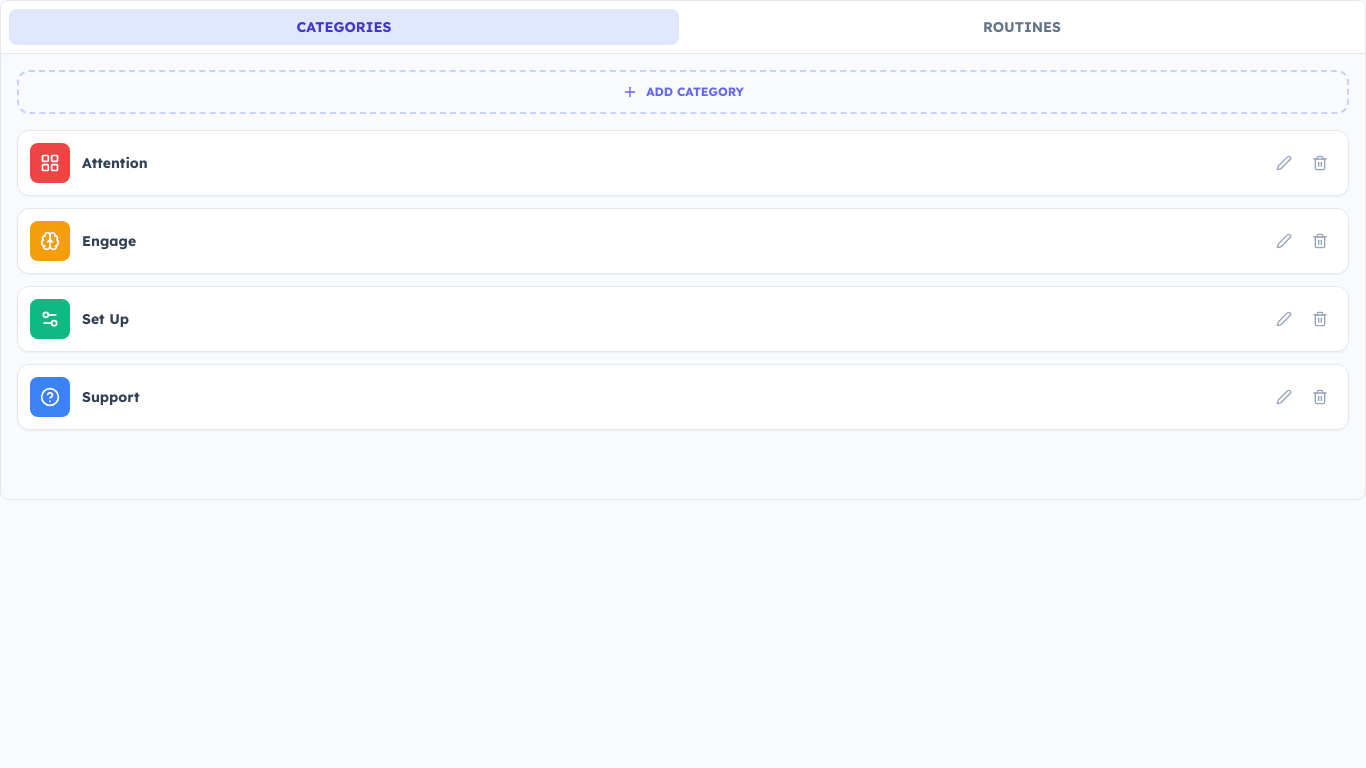
it: CatalystPermissionEditor › renders default categories and routines
Check: the text "Attention" is shown, box [82, 154, 148, 172]
Switch to routines tab
Click the button "Routines" at (1022, 27), box [687, 9, 1357, 45]
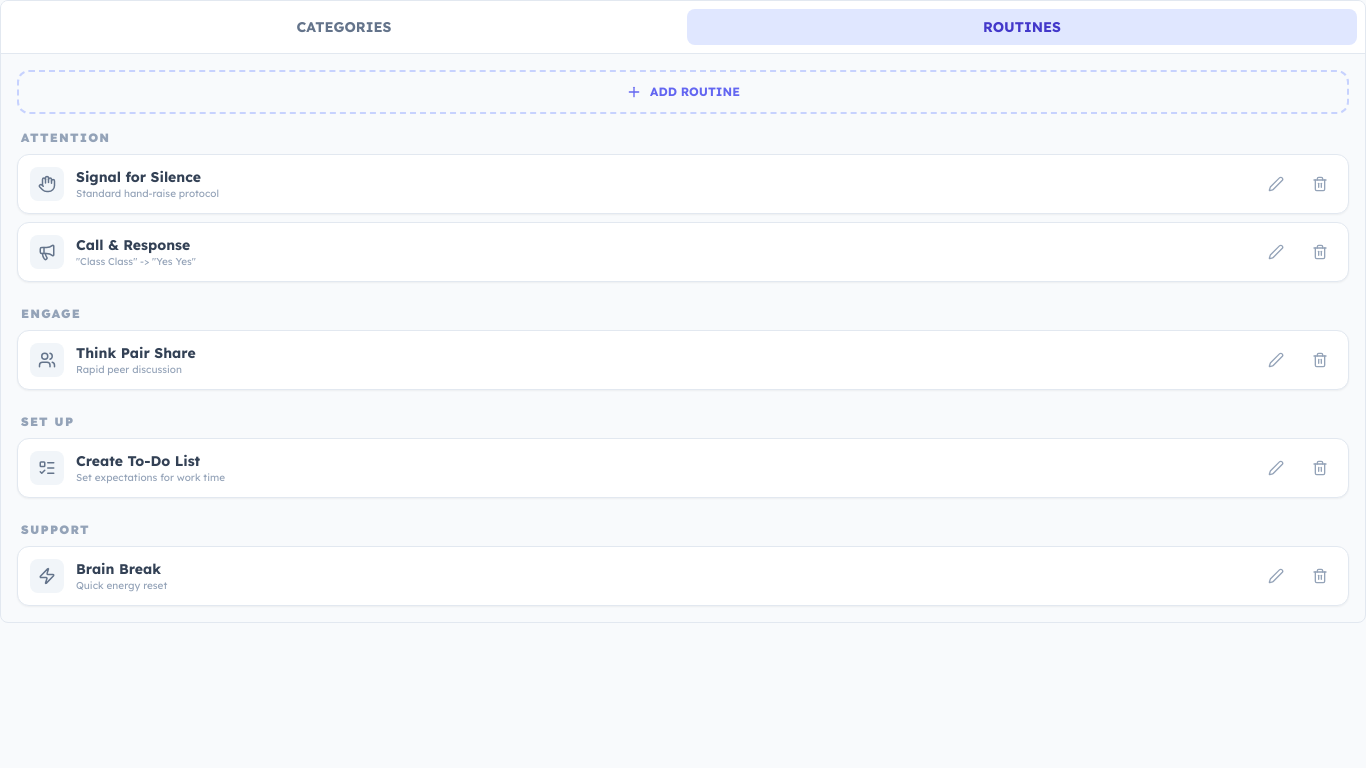
Check: the text "Signal for Silence" is shown, box [76, 168, 201, 186]
